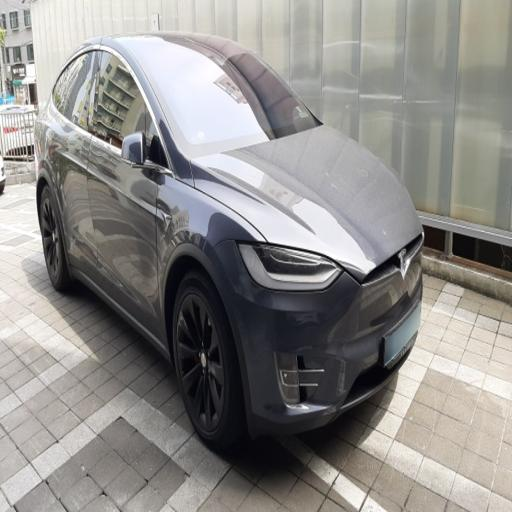dent: (69, 158, 171, 351)
